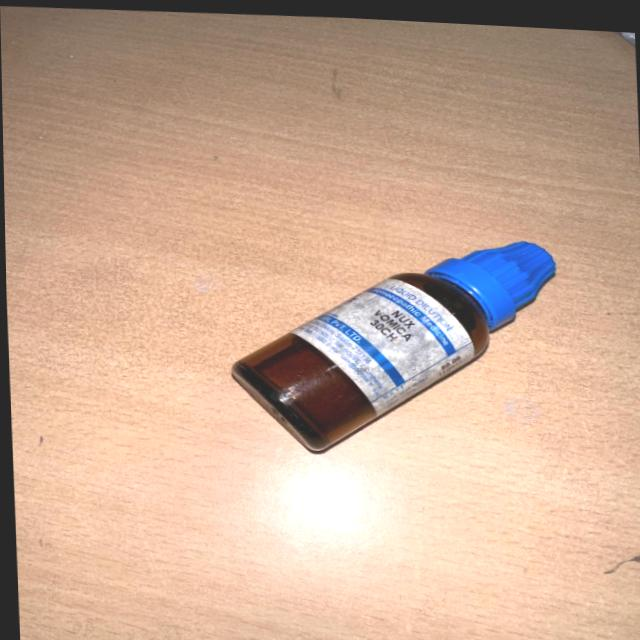medicine: (220, 212, 573, 456)
